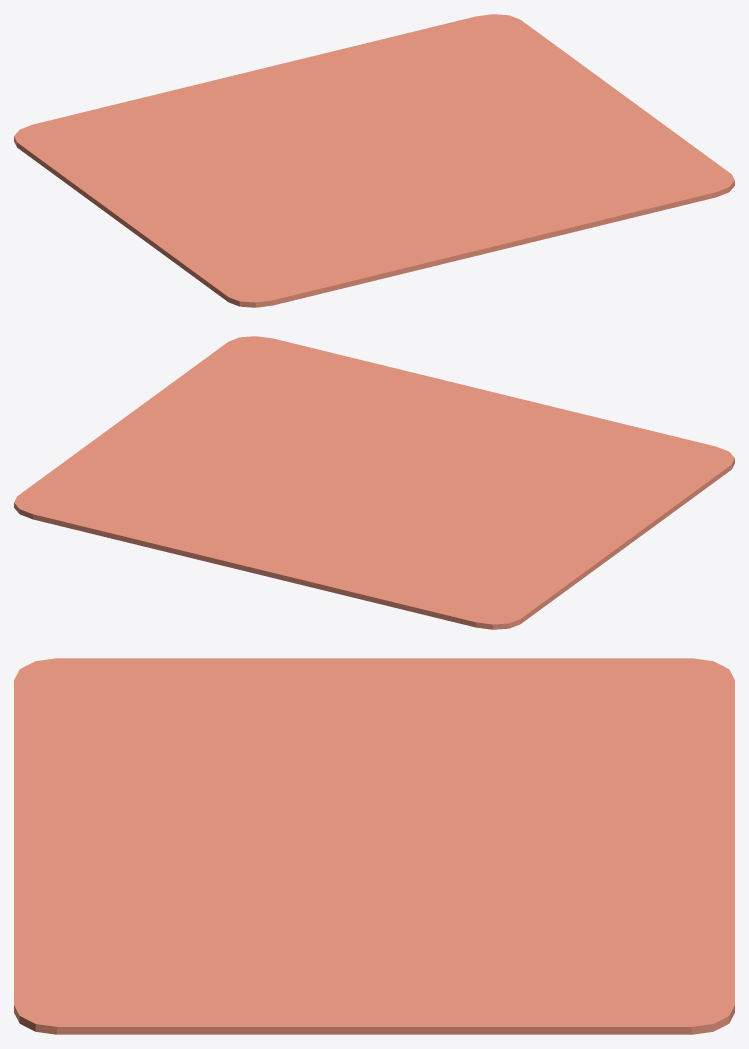
The model's file is Bedroom Carpet.glb.
3 views of the same model, one above another, from view 1: azimuth 30°, elevation 25°; view 2: azimuth 150°, elevation 25°; view 3: azimuth 270°, elevation 25° (orthographic). The views are drawn at different scales.
Visible parts, largest first — view 1: Carpet; view 2: Carpet; view 3: Carpet.
Boxes of the visible parts, box(x1,y1,x2,y2) form: Carpet: box(14, 14, 734, 307); Carpet: box(14, 336, 734, 629); Carpet: box(14, 658, 734, 1034).
Size of the model in its own units: 3.15 by 0.0312 by 2.6.
Materials: 1 (1 with a texture image).
